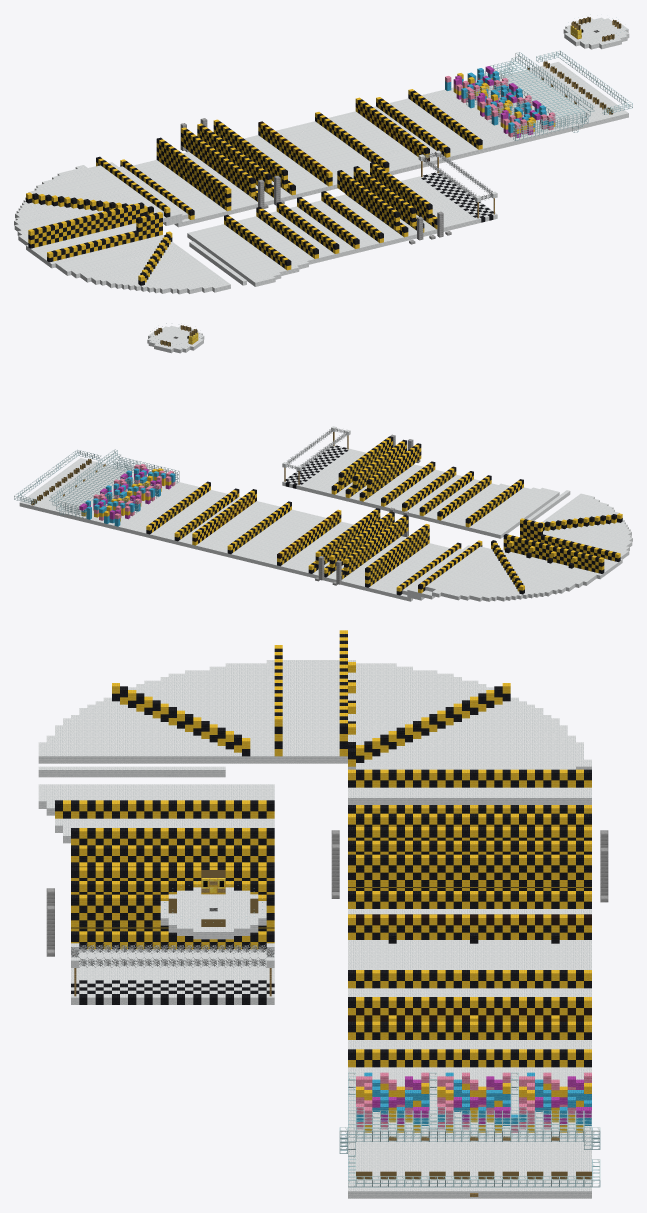
File: minecraft.obj
The picture shows the model from 3 angles, top to bottom: view 1: azimuth 30°, elevation 25°; view 2: azimuth 150°, elevation 25°; view 3: azimuth 270°, elevation 25°; orthographic projection. The views are drawn at different scales.
Size of the model in its own units: 149 by 34 by 70.
